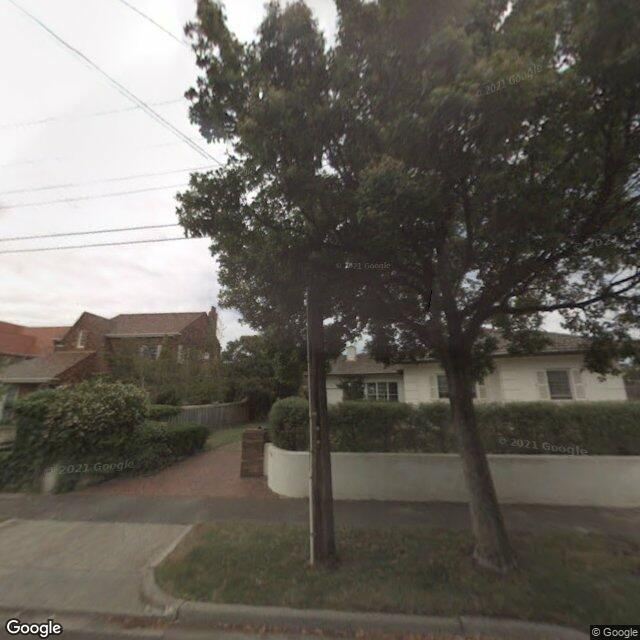timber-pole: (306, 285, 339, 568)
